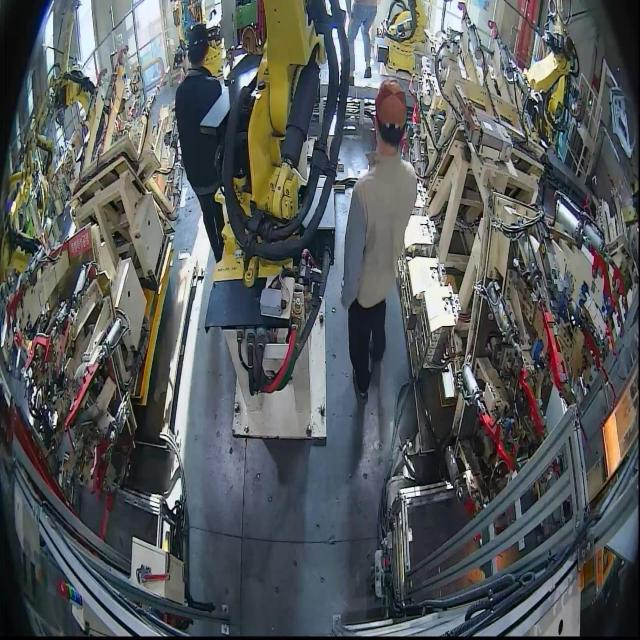Person: (340, 79, 418, 402), (175, 22, 228, 264), (345, 0, 379, 79)
